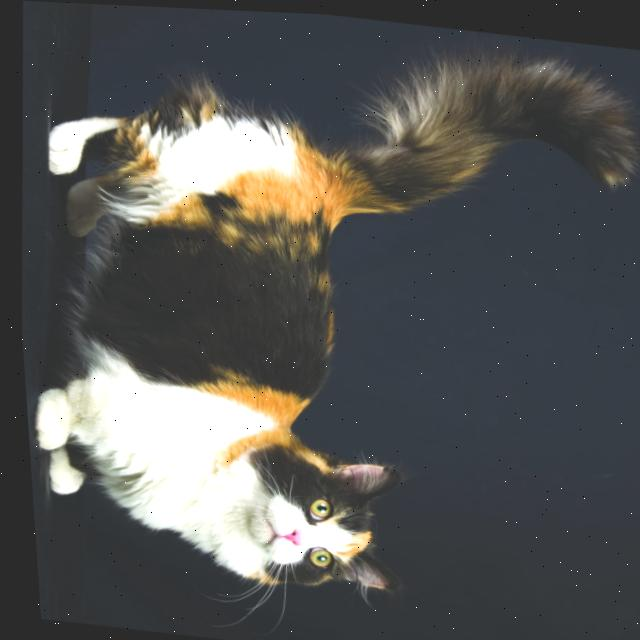Munchkin: (0, 0, 640, 630)
